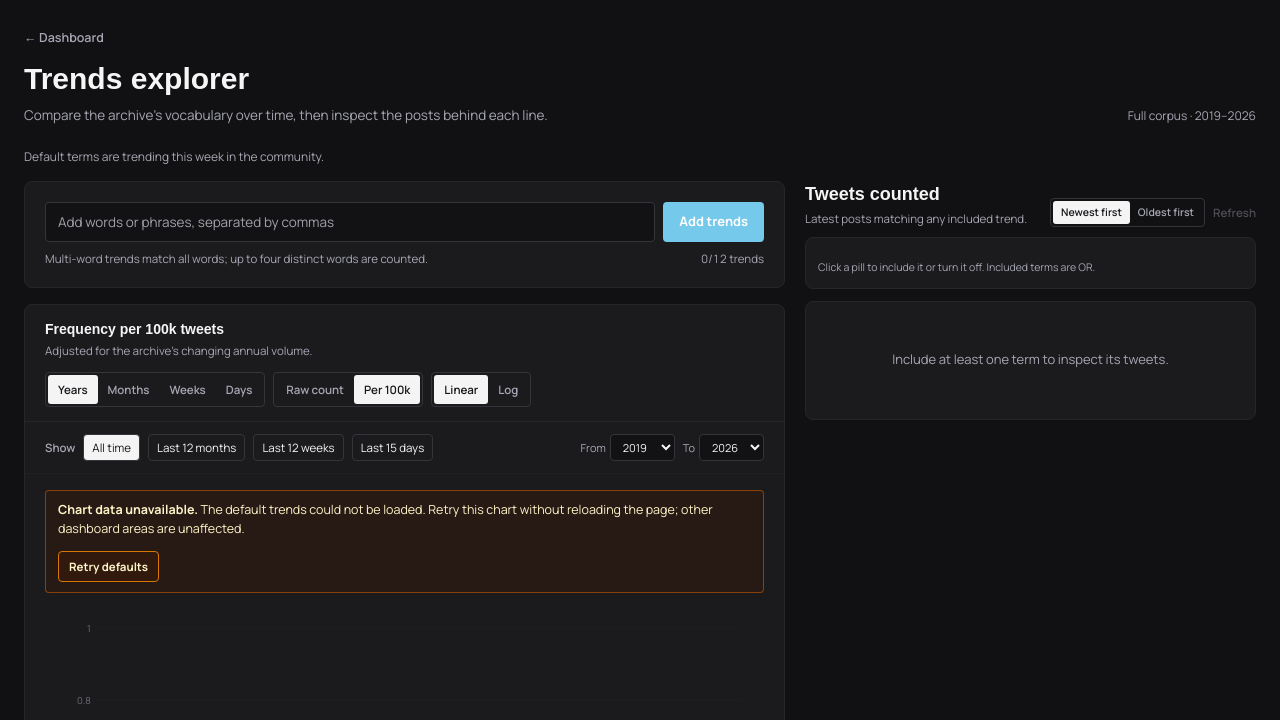
Test case: TrendsExplorer request isolation › retries only the failed chart data
Click the button "Retry defaults": point(109, 566) [58,550,159,582]
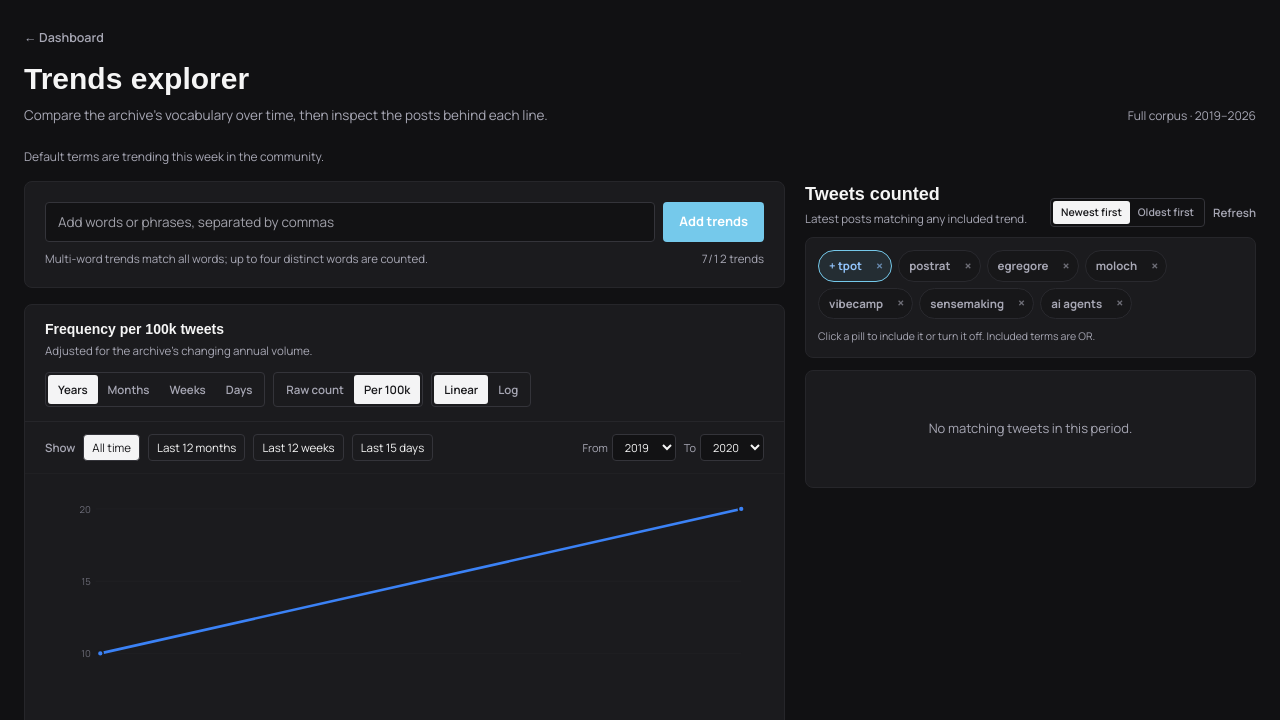
Check: the text "Chart data unavailable." is gone
Check: the text "7/12 trends" is shown, box [701,250,764,267]
